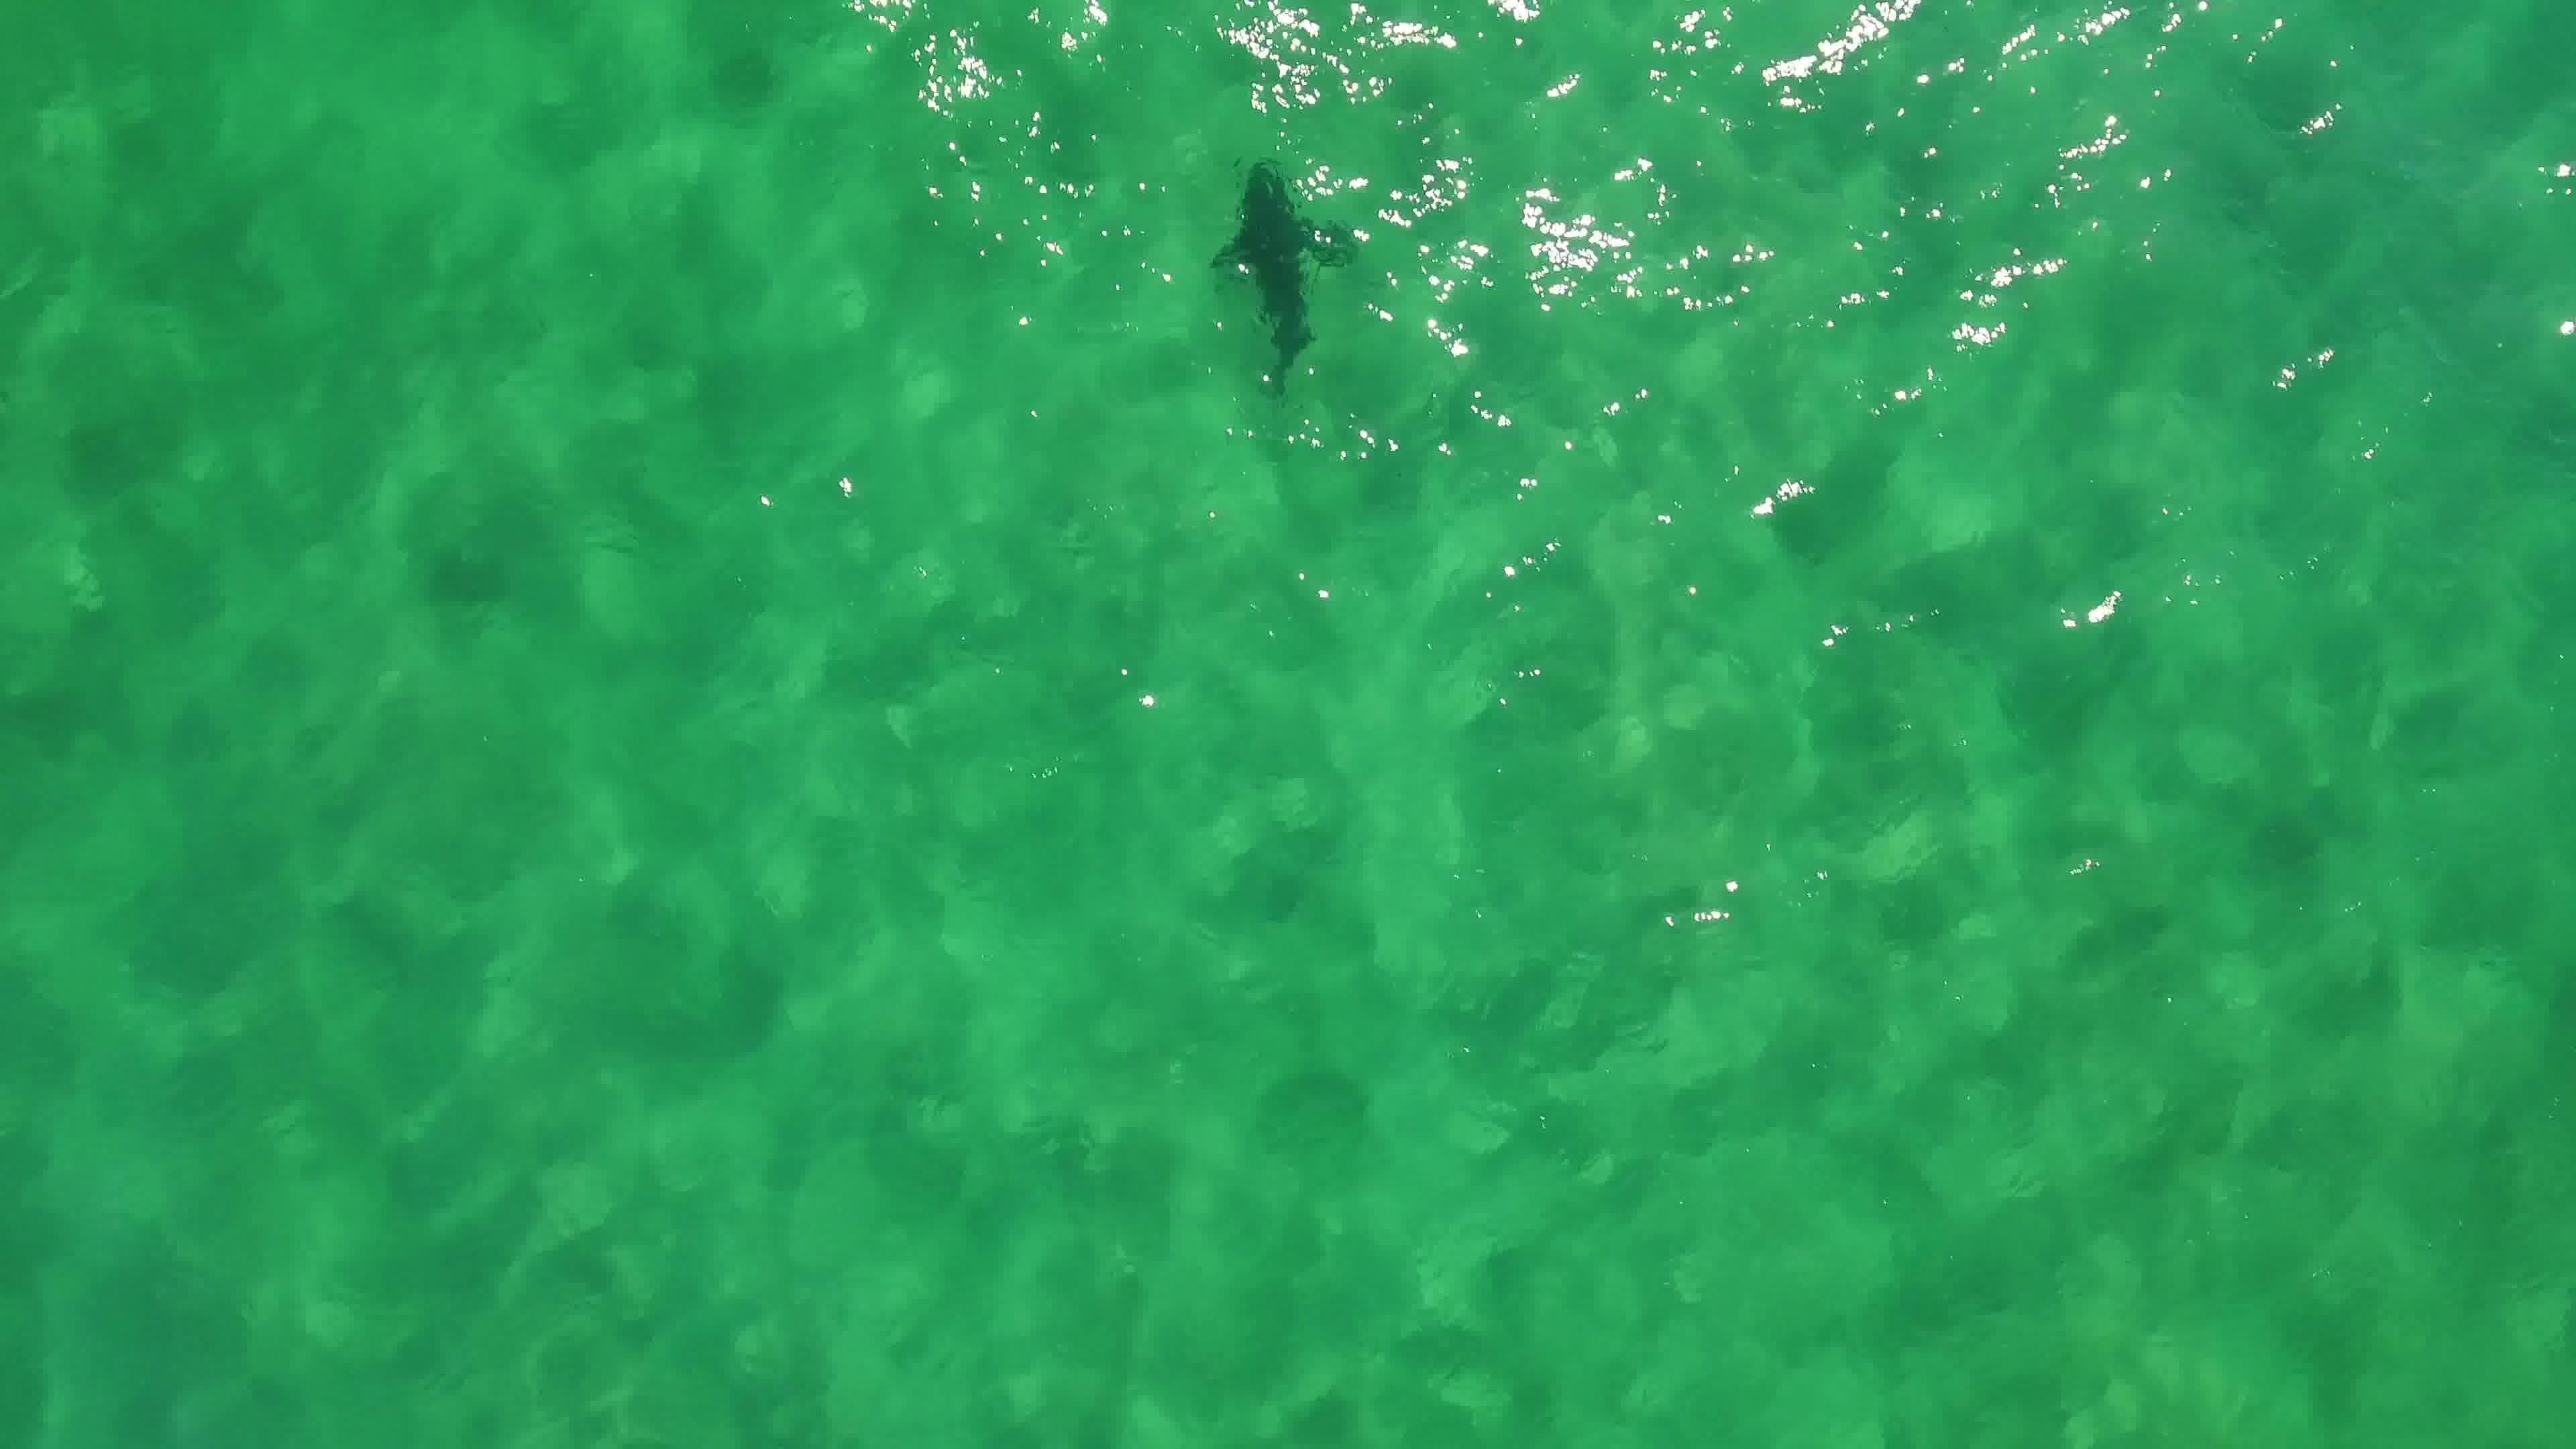shark: (1203, 145, 1362, 403)
